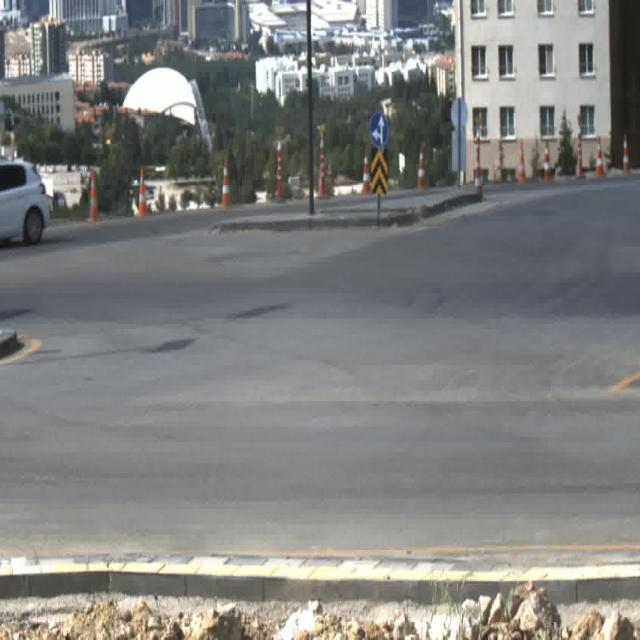Car: (0, 162, 48, 247)
